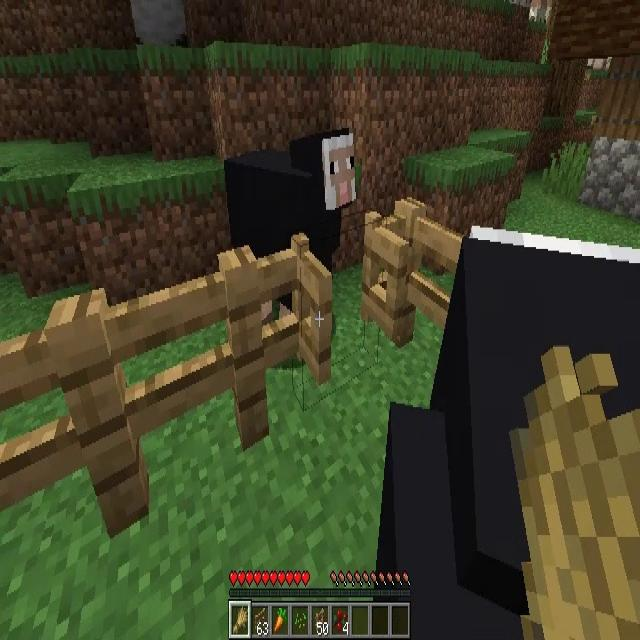sheep: (222, 130, 356, 316)
